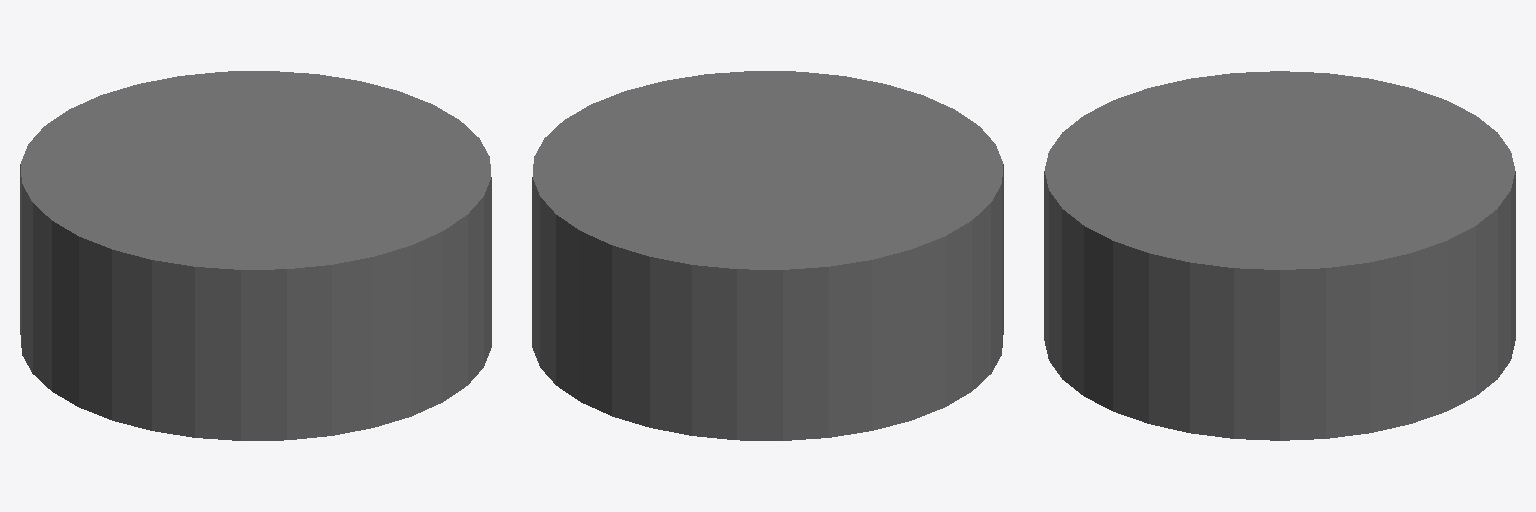
URDF robot description (frontwheel):
<?xml version="1.0"?>
<robot name="frontwheel">
<link name="base_link_wheel1">
<inertial>
        	 <origin xyz="0 0 0" rpy="0 0 0"/>
        	 <mass value="1"/>
        	 <inertia ixx="0.01"  ixy="0"  ixz="0.01" iyy="0" iyz="0" izz="0.01" />
       </inertial>
<visual>
<geometry>
    <cylinder length="0.004" radius="0.005"/>
</geometry>
<material>
	<color rgba="0.5 0.5 0.5 1" />
	</material>
</visual>
</link>
</robot>

--- Render facts (derived) ---
Views: 3 orthographic renders of the robot side by side, from view 1: azimuth 30°, elevation 25°; view 2: azimuth 150°, elevation 25°; view 3: azimuth 270°, elevation 25°.
Robot: frontwheel — 1 links, 0 joints (none); root link base_link_wheel1; default pose: every joint at zero.
Links seen in each view (by area): view 1: base_link_wheel1; view 2: base_link_wheel1; view 3: base_link_wheel1.
Boxes of the visible links, bbox=[...] form: base_link_wheel1: bbox=[20, 71, 491, 440]; base_link_wheel1: bbox=[532, 71, 1003, 440]; base_link_wheel1: bbox=[1044, 71, 1515, 440].
Bounding box of the posed robot: 0.01 × 0.01 × 0.004 m (x, y, z).
Geometry: primitives only (box / cylinder / sphere), no mesh files.
